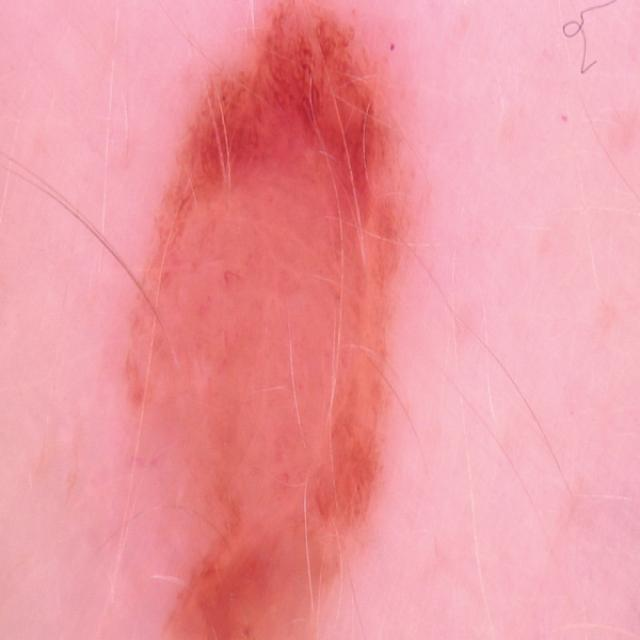NV: (117, 0, 425, 639)
